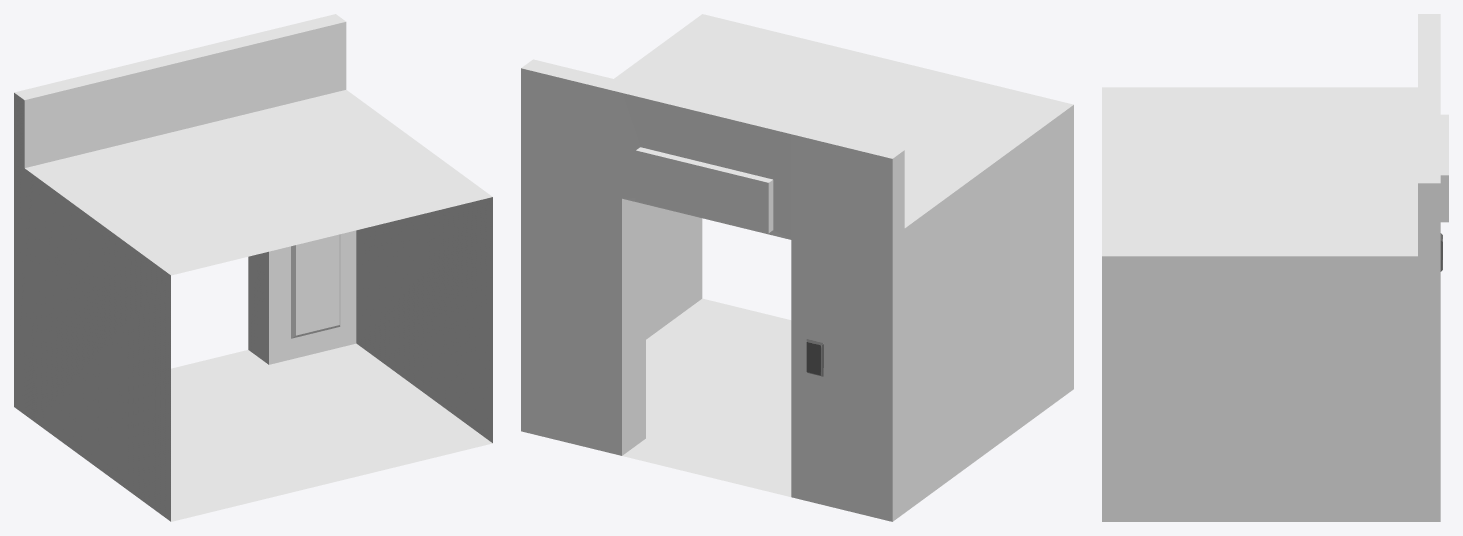
The model's file is elevator model.fbx.
3 renders of one model, left to right at view 1: azimuth 30°, elevation 25°; view 2: azimuth 150°, elevation 25°; view 3: azimuth 270°, elevation 25°, orthographic. The views are drawn at different scales.
Visible parts, largest first — view 1: Cube; view 2: Cube; view 3: Cube.
Boxes of the visible parts, <box> form: Cube: <box>14,14,492,521</box>; Cube: <box>521,14,1073,521</box>; Cube: <box>1102,14,1448,521</box>.
Bounding box in the file's own units: 368 × 319 × 343.
Materials: 1 (1 with a texture image).
